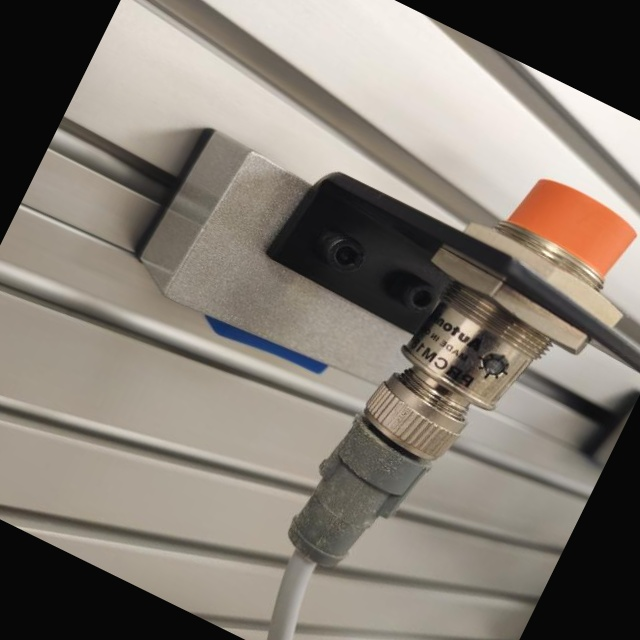inductive sensor: (34, 20, 640, 640)
